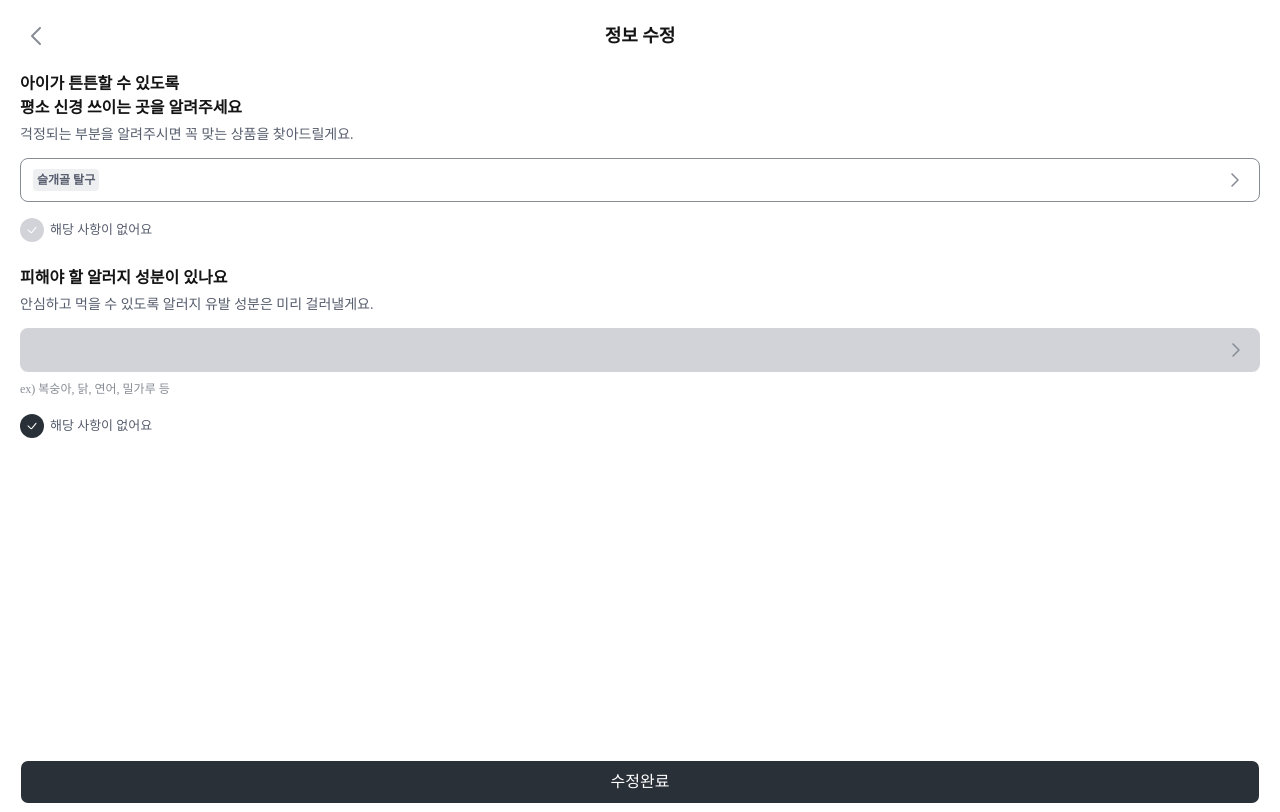
Test: 해당 없음을 켜면 고를 수 없고 고른 것도 보이지 않는다
Click the checkbox below "걱정되는 부분을 알려주시면 꼭 맞는 상품을 찾아드릴게요.": (32, 230) [20,218,44,242]
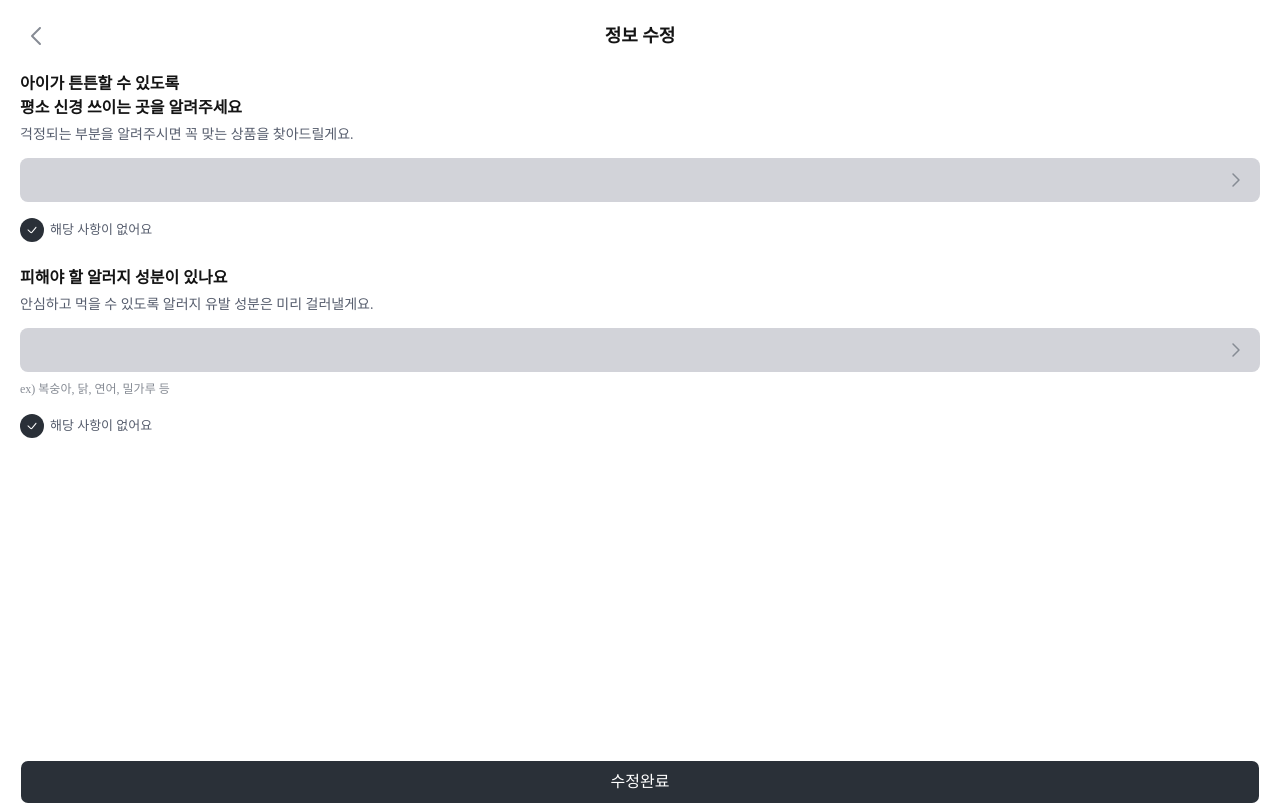
Expected: the button named "걱정되는 질환" is disabled, [20,158,1260,202]
Expected: the text "걱정되는 질환" no longer shows "슬개골 탈구"
